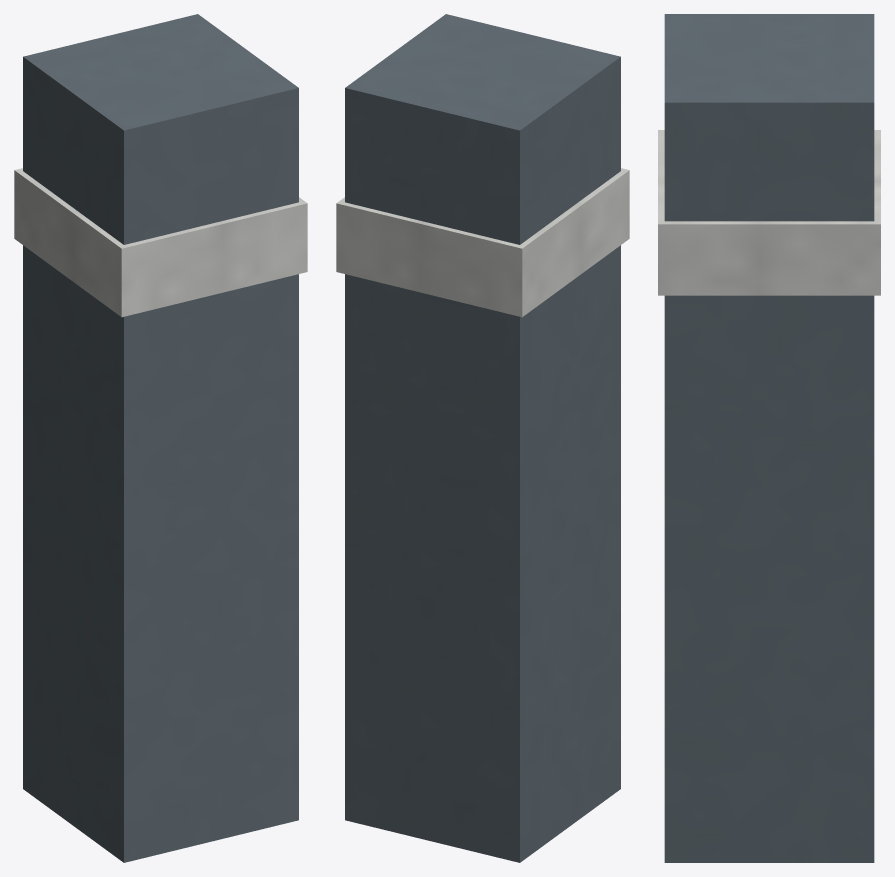
The model's file is city-bollard.glb.
3 renders of one model, left to right at view 1: azimuth 30°, elevation 25°; view 2: azimuth 150°, elevation 25°; view 3: azimuth 270°, elevation 25°, orthographic. The views are drawn at different scales.
Bounding box in the file's own units: 0.17 × 0.64 × 0.17.
Materials: 2 (2 with a texture image).
